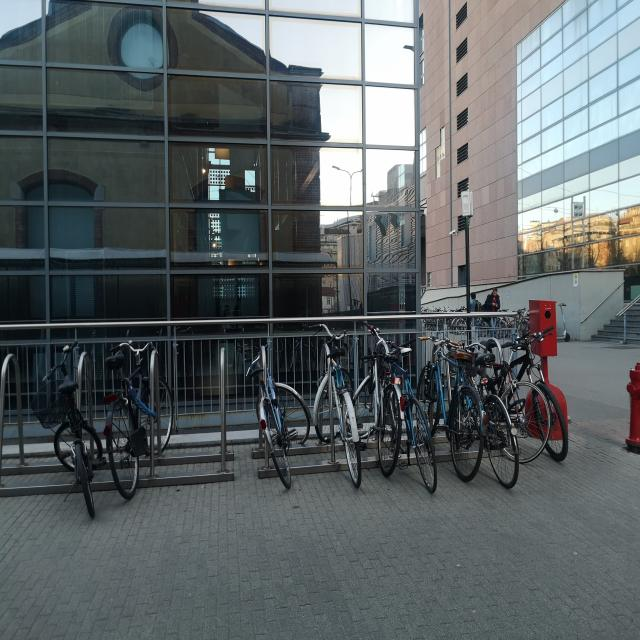Bicycle: (102, 320, 180, 503), (30, 336, 101, 527), (235, 332, 312, 497), (496, 308, 573, 471), (413, 311, 483, 487), (446, 332, 519, 497), (304, 294, 362, 500), (381, 338, 439, 505), (490, 337, 548, 477), (344, 350, 398, 486)
